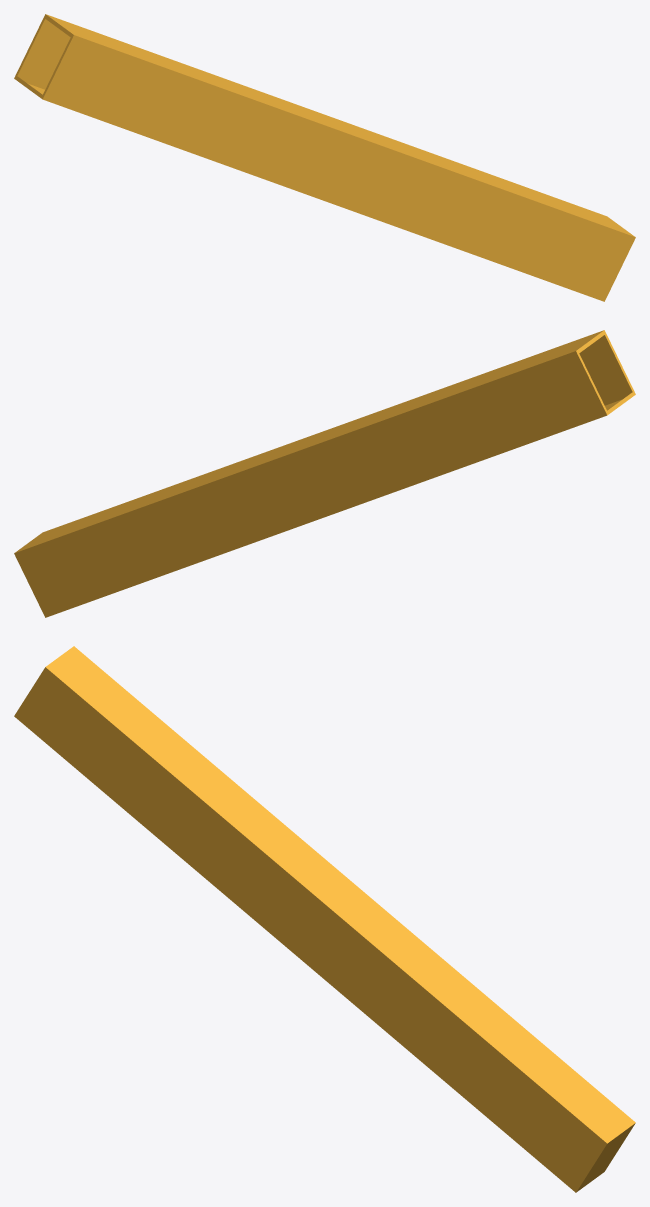
The model's file is crane_boom02.obj.
3 renders of one model, top to bottom at view 1: azimuth 30°, elevation 25°; view 2: azimuth 150°, elevation 25°; view 3: azimuth 330°, elevation 25°, orthographic.
Visible parts, largest first — view 1: Body.015_ID1036; view 2: Body.015_ID1036; view 3: Body.015_ID1036.
Part boxes in pixels (left/top/right/bottom): Body.015_ID1036: left=14, top=14, right=635, bottom=301; Body.015_ID1036: left=14, top=330, right=635, bottom=617; Body.015_ID1036: left=14, top=646, right=635, bottom=1192.
Size of the model in its own units: 1.05 by 0.6691 by 0.0877.
